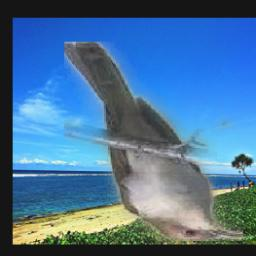Cuckoo: (64, 43, 243, 242)
